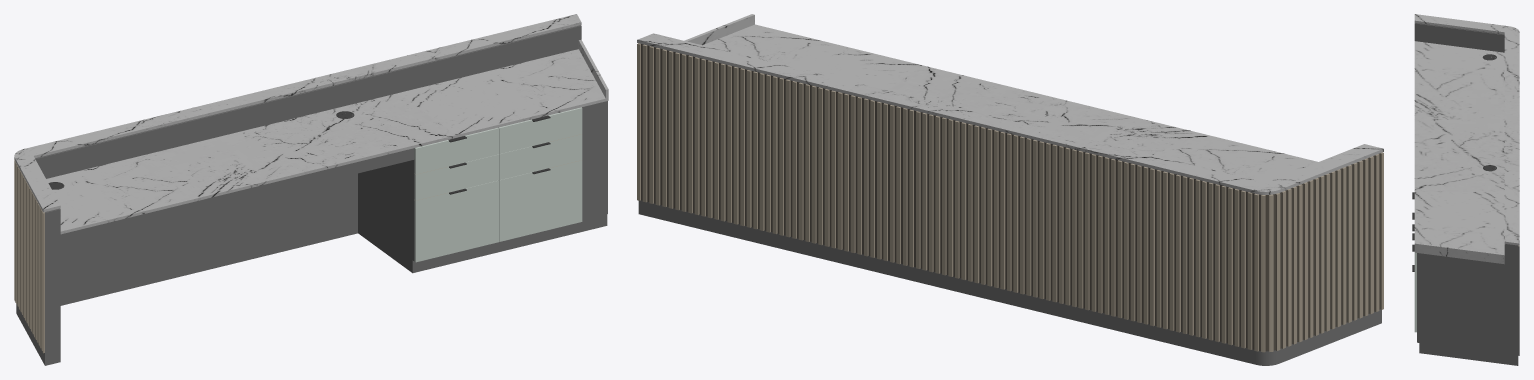
File: counter.glb
3 renders of one model, left to right at view 1: azimuth 30°, elevation 25°; view 2: azimuth 150°, elevation 25°; view 3: azimuth 270°, elevation 25°, orthographic. The views are drawn at different scales.
Visible parts, largest first — view 1: Material2 (×4); view 2: Material2 (×4); view 3: Material2 (×5).
Boxes of the visible parts, x1,y1,x2,y2 form: Material2 (×4): (14,14,608,365); Material2 (×4): (637,14,1383,365); Material2 (×5): (1412,14,1519,365).
Bounding box in the file's own units: 2.5 × 0.6226 × 0.4946.
Materials: 8 (1 with a texture image).
